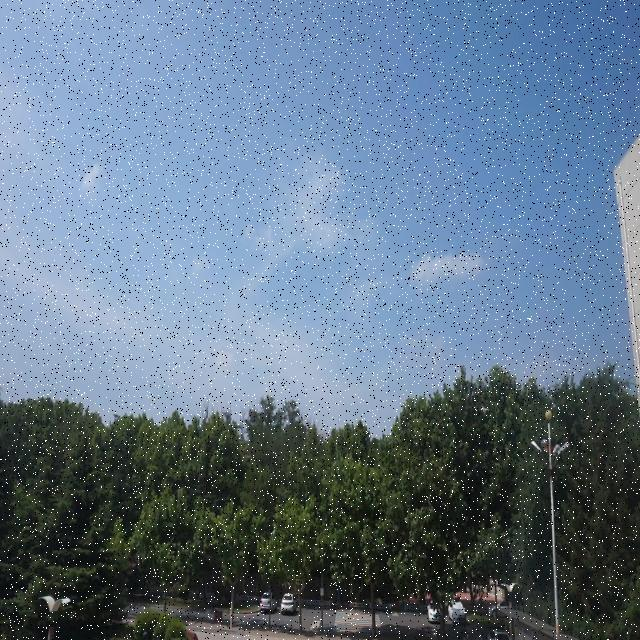UAV: (482, 406, 488, 414)
